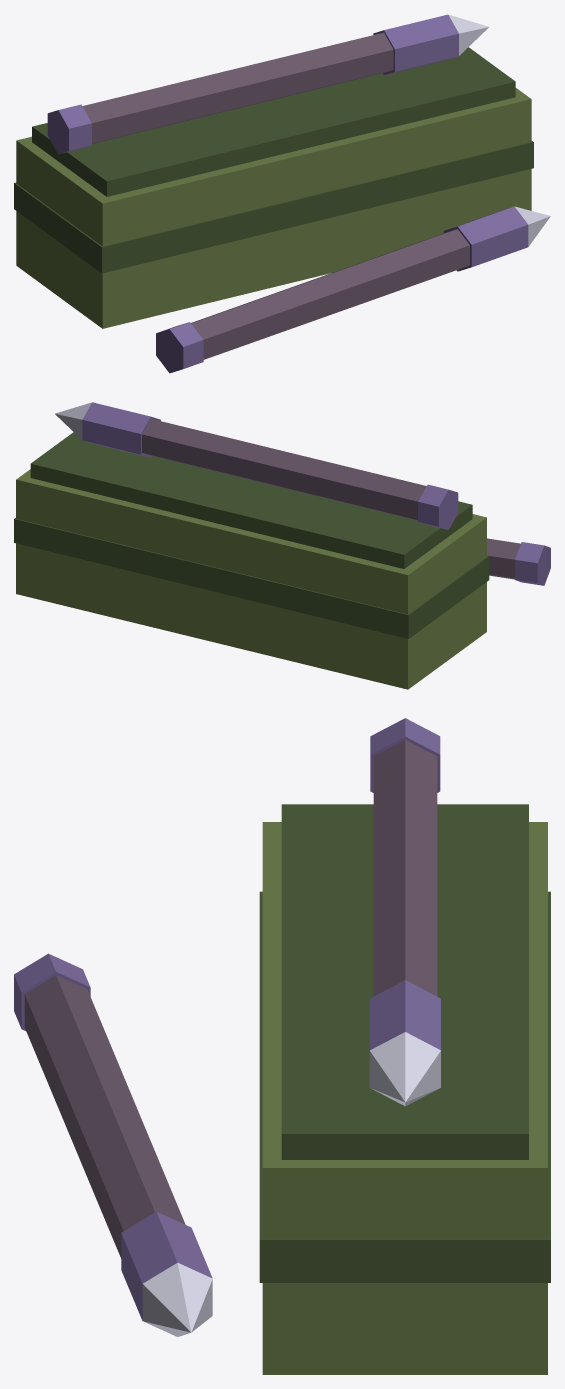
Rendered from ce_ammo2_s8_thermo_c.obj.
3 renders of one model, top to bottom at view 1: azimuth 30°, elevation 25°; view 2: azimuth 150°, elevation 25°; view 3: azimuth 270°, elevation 25°, orthographic. The views are drawn at different scales.
Parts seen in each view (by area): view 1: ce_ammo2_s8_thermo_c_0, ce_ammo2_s8_thermo_c_1, ce_ammo2_s8_thermo_c_2, ce_ammo2_s8_thermo_c_4, ce_ammo2_s8_thermo_c_8, ce_ammo2_s8_thermo_c_5, ce_ammo2_s8_thermo_c_9, ce_ammo2_s8_thermo_c_7, ce_ammo2_s8_thermo_c_3, ce_ammo2_s8_thermo_c_6, ce_ammo2_s8_thermo_c_10; view 2: ce_ammo2_s8_thermo_c_0, ce_ammo2_s8_thermo_c_1, ce_ammo2_s8_thermo_c_2, ce_ammo2_s8_thermo_c_4, ce_ammo2_s8_thermo_c_5, ce_ammo2_s8_thermo_c_3, ce_ammo2_s8_thermo_c_7, ce_ammo2_s8_thermo_c_8, ce_ammo2_s8_thermo_c_6; view 3: ce_ammo2_s8_thermo_c_1, ce_ammo2_s8_thermo_c_0, ce_ammo2_s8_thermo_c_8, ce_ammo2_s8_thermo_c_4, ce_ammo2_s8_thermo_c_2, ce_ammo2_s8_thermo_c_9, ce_ammo2_s8_thermo_c_10, ce_ammo2_s8_thermo_c_6, ce_ammo2_s8_thermo_c_5, ce_ammo2_s8_thermo_c_7, ce_ammo2_s8_thermo_c_3.
Boxes of the visible parts, x1,y1,x2,y2 form: ce_ammo2_s8_thermo_c_0: (16, 88, 531, 328); ce_ammo2_s8_thermo_c_1: (32, 47, 515, 196); ce_ammo2_s8_thermo_c_2: (14, 141, 533, 273); ce_ammo2_s8_thermo_c_4: (82, 32, 393, 143); ce_ammo2_s8_thermo_c_8: (191, 229, 469, 359); ce_ammo2_s8_thermo_c_5: (373, 14, 458, 75); ce_ammo2_s8_thermo_c_9: (443, 206, 528, 271); ce_ammo2_s8_thermo_c_7: (156, 322, 203, 373); ce_ammo2_s8_thermo_c_3: (47, 104, 91, 154); ce_ammo2_s8_thermo_c_6: (448, 14, 488, 55); ce_ammo2_s8_thermo_c_10: (515, 206, 550, 246); ce_ammo2_s8_thermo_c_0: (16, 469, 486, 689); ce_ammo2_s8_thermo_c_1: (30, 432, 472, 568); ce_ammo2_s8_thermo_c_2: (14, 518, 489, 638); ce_ammo2_s8_thermo_c_4: (142, 419, 426, 520); ce_ammo2_s8_thermo_c_5: (82, 402, 160, 457); ce_ammo2_s8_thermo_c_3: (418, 484, 458, 529); ce_ammo2_s8_thermo_c_7: (515, 542, 550, 585); ce_ammo2_s8_thermo_c_8: (487, 538, 520, 579); ce_ammo2_s8_thermo_c_6: (55, 402, 91, 439); ce_ammo2_s8_thermo_c_1: (281, 804, 528, 1159); ce_ammo2_s8_thermo_c_0: (262, 822, 547, 1374); ce_ammo2_s8_thermo_c_8: (24, 975, 185, 1258); ce_ammo2_s8_thermo_c_4: (373, 740, 437, 996); ce_ammo2_s8_thermo_c_2: (259, 891, 550, 1282); ce_ammo2_s8_thermo_c_9: (121, 1211, 212, 1320); ce_ammo2_s8_thermo_c_10: (142, 1262, 212, 1336); ce_ammo2_s8_thermo_c_6: (369, 1032, 440, 1106); ce_ammo2_s8_thermo_c_5: (369, 980, 440, 1050); ce_ammo2_s8_thermo_c_7: (14, 953, 90, 1030); ce_ammo2_s8_thermo_c_3: (370, 718, 440, 792).
Size of the model in its own units: 0.866 by 0.3603 by 0.5643.
